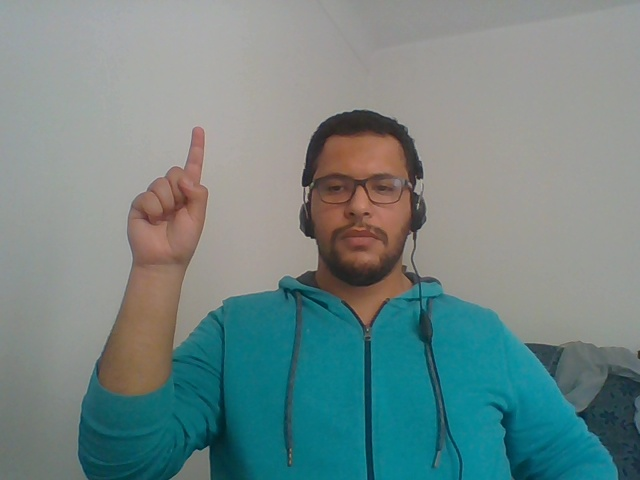handup: (88, 112, 232, 411)
